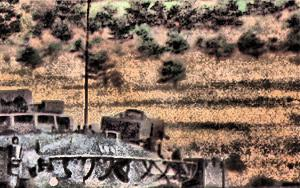tanks: (1, 91, 222, 188), (220, 186, 221, 188)
